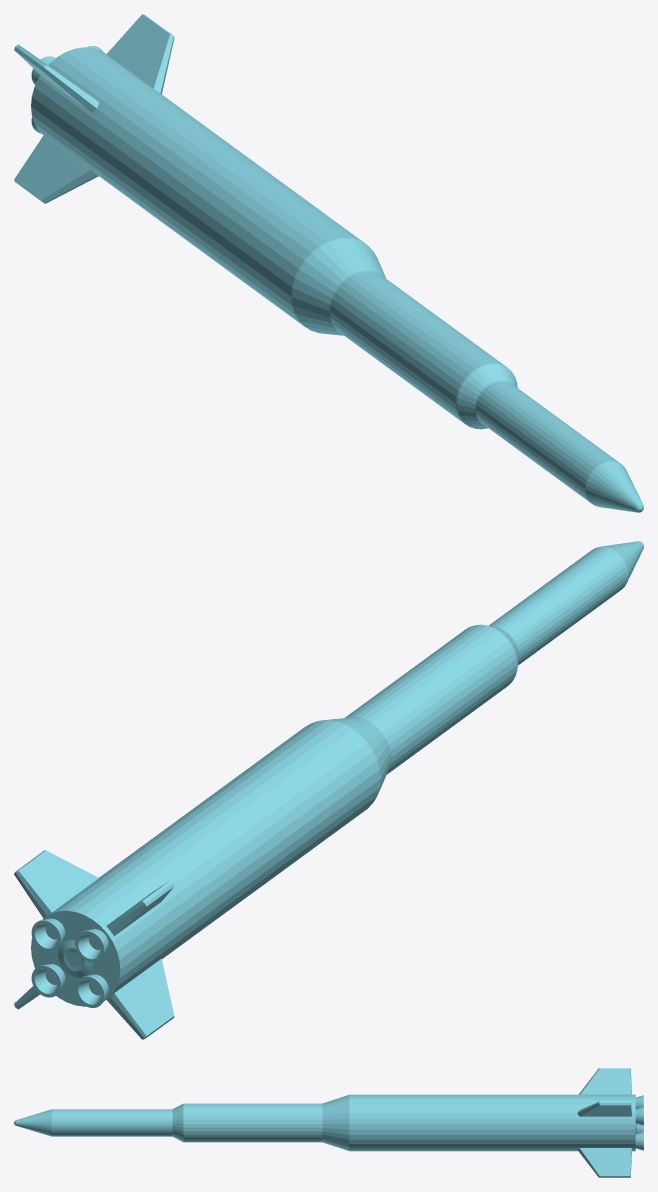
File: Missile_Blue.glb
3 renders of one model, top to bottom at view 1: azimuth 30°, elevation 25°; view 2: azimuth 150°, elevation 25°; view 3: azimuth 270°, elevation 25°, orthographic. The views are drawn at different scales.
Visible parts, largest first — view 1: Cylinder001; view 2: Cylinder001; view 3: Cylinder001.
Boxes of the visible parts, x1=… form: Cylinder001: x1=14, y1=14, x2=643, y2=512; Cylinder001: x1=14, y1=541, x2=643, y2=1039; Cylinder001: x1=14, y1=1068, x2=643, y2=1177.
Bounding box in the file's own units: 0.2482 × 0.2482 × 1.86.
